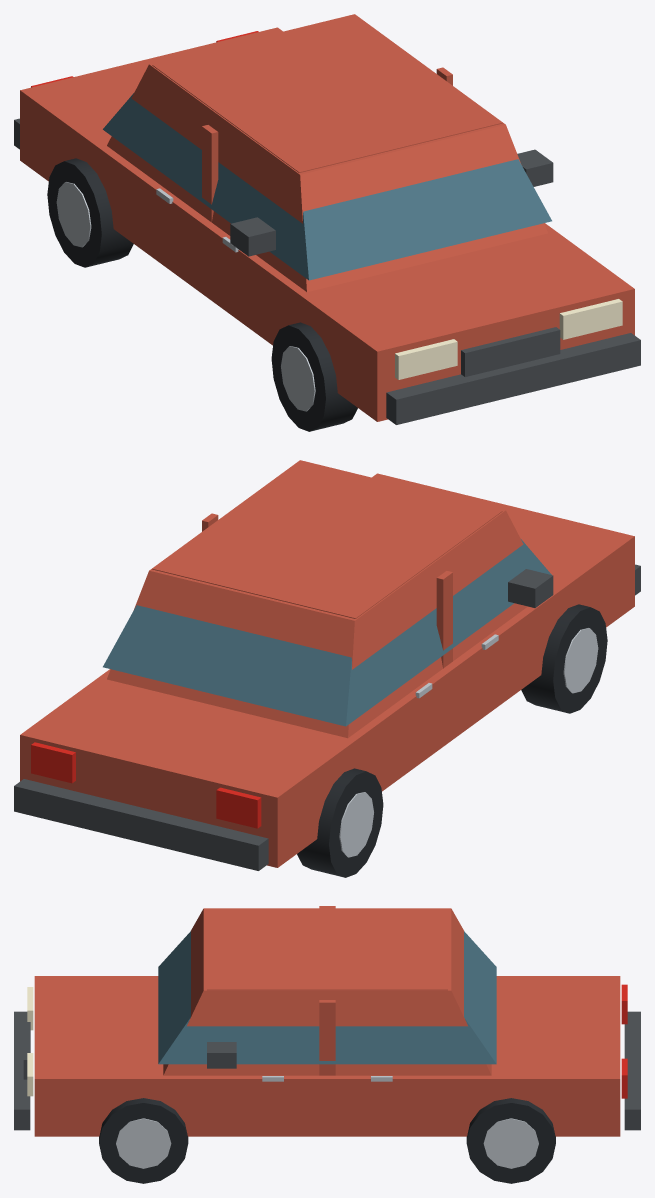
File: sedan.glb
3 views of the same model, one above another, from view 1: azimuth 30°, elevation 25°; view 2: azimuth 150°, elevation 25°; view 3: azimuth 270°, elevation 25° (orthographic). The views are drawn at different scales.
Parts seen in each view (by area): view 1: Body, Windows, FrontBumper, WheelFrontL, WheelRearL, Headlights, Grille, Mirrors; view 2: Body, Windows, RearBumper, WheelRearL, WheelFrontL, TailLights, Mirrors; view 3: Body, Windows, WheelFrontR, WheelRearR, RearBumper, FrontBumper, Mirrors, Headlights, TailLights.
Part boxes in pixels (bbox=[...]): Body: bbox=[20, 14, 634, 421]; Windows: bbox=[103, 93, 551, 280]; FrontBumper: bbox=[386, 333, 640, 424]; WheelFrontL: bbox=[271, 322, 357, 431]; WheelRearL: bbox=[47, 158, 133, 267]; Headlights: bbox=[395, 299, 622, 379]; Grille: bbox=[461, 327, 560, 376]; Mirrors: bbox=[230, 149, 553, 256]; Body: bbox=[20, 460, 634, 867]; Windows: bbox=[103, 539, 551, 726]; RearBumper: bbox=[14, 779, 268, 870]; WheelRearL: bbox=[297, 768, 383, 877]; WheelFrontL: bbox=[521, 604, 607, 713]; TailLights: bbox=[31, 742, 261, 828]; Mirrors: bbox=[508, 569, 553, 607]; Body: bbox=[34, 906, 620, 1136]; Windows: bbox=[158, 931, 496, 1064]; WheelFrontR: bbox=[99, 1098, 188, 1183]; WheelRearR: bbox=[466, 1098, 555, 1183]; RearBumper: bbox=[624, 1011, 640, 1130]; FrontBumper: bbox=[14, 1011, 30, 1130]; Mirrors: bbox=[207, 1042, 236, 1068]; Headlights: bbox=[27, 987, 33, 1096]; TailLights: bbox=[621, 984, 627, 1098].
Size of the model in its own units: 2.13 by 1.46 by 4.63.
